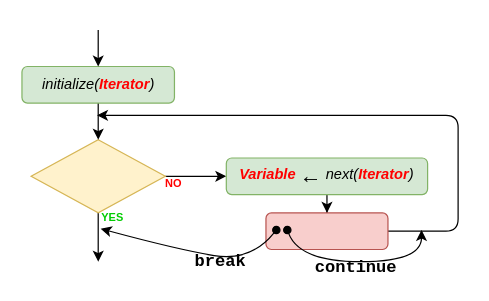
Image size: 489x301. Some labels were removed from this diagram. The shapes that lost their labels are listed below. From the top down, each one's centre as x and y in pixels, then its label:
point (97, 175): end?( Iterator )
point (326, 230): Statement
